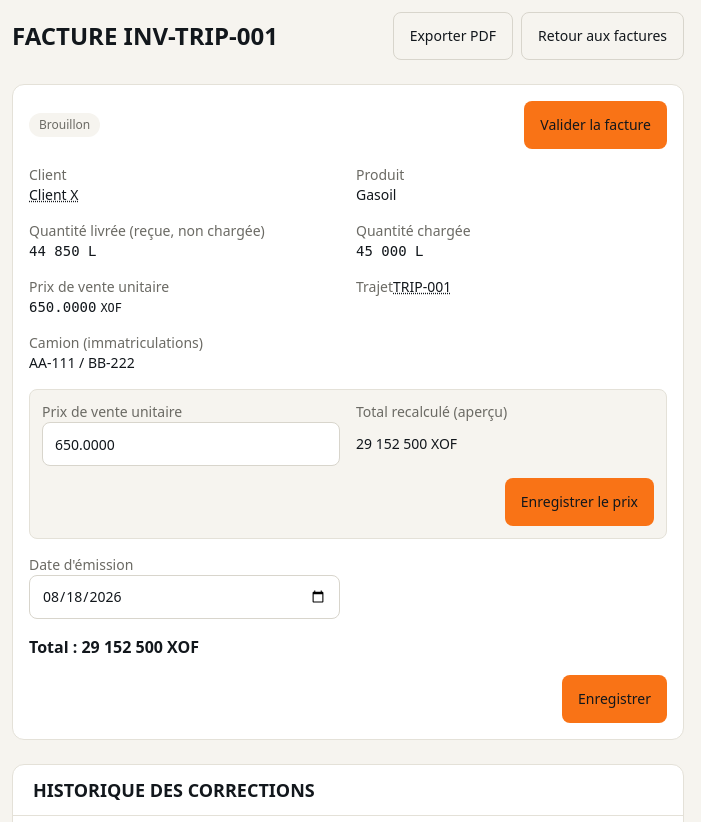
Test: InvoiceDetail › validates the invoice and re-renders it as VALIDATED with editing hidden
Step 1. Click the button "Valider la facture" → (596,125), box [524,101,667,149]
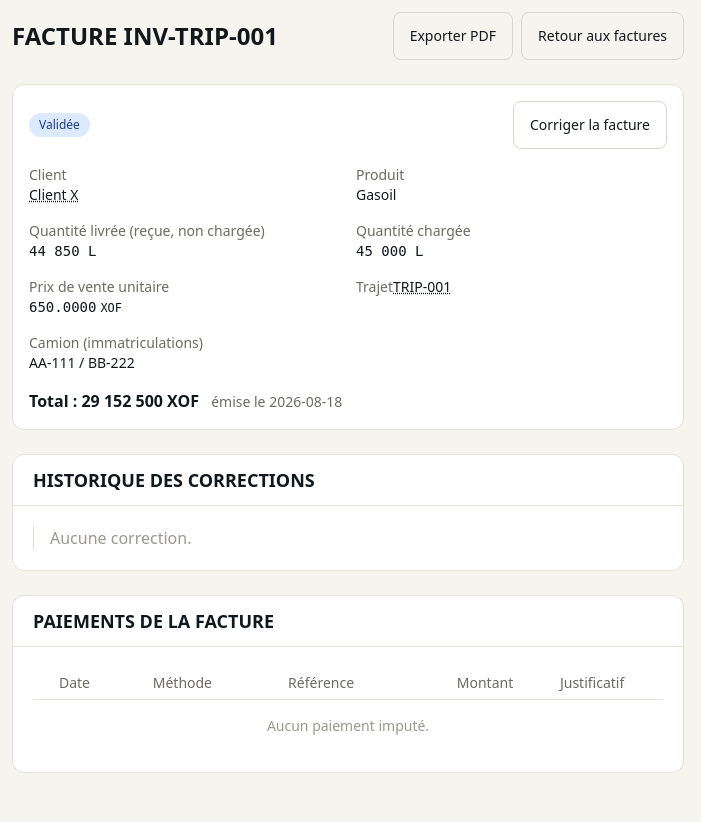
Expected: the text "Validée" is shown, [29,113,90,137]
Expected: the button with id "correct-invoice" is shown, [513,101,667,149]
